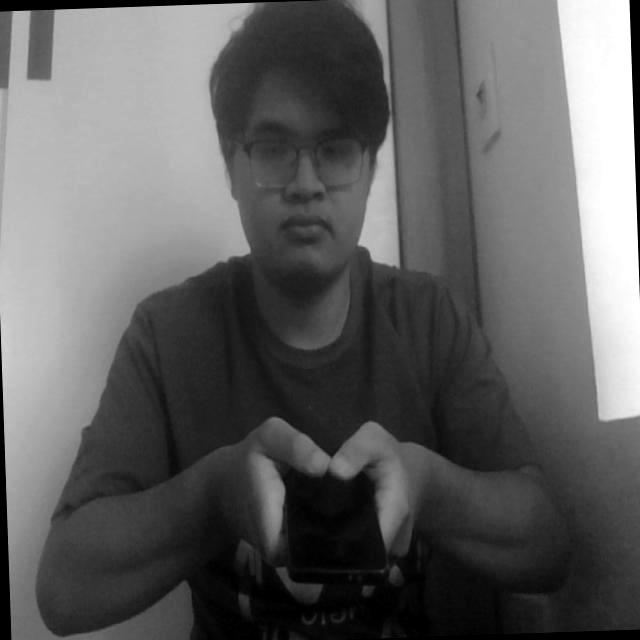phone: (264, 427, 406, 595)
